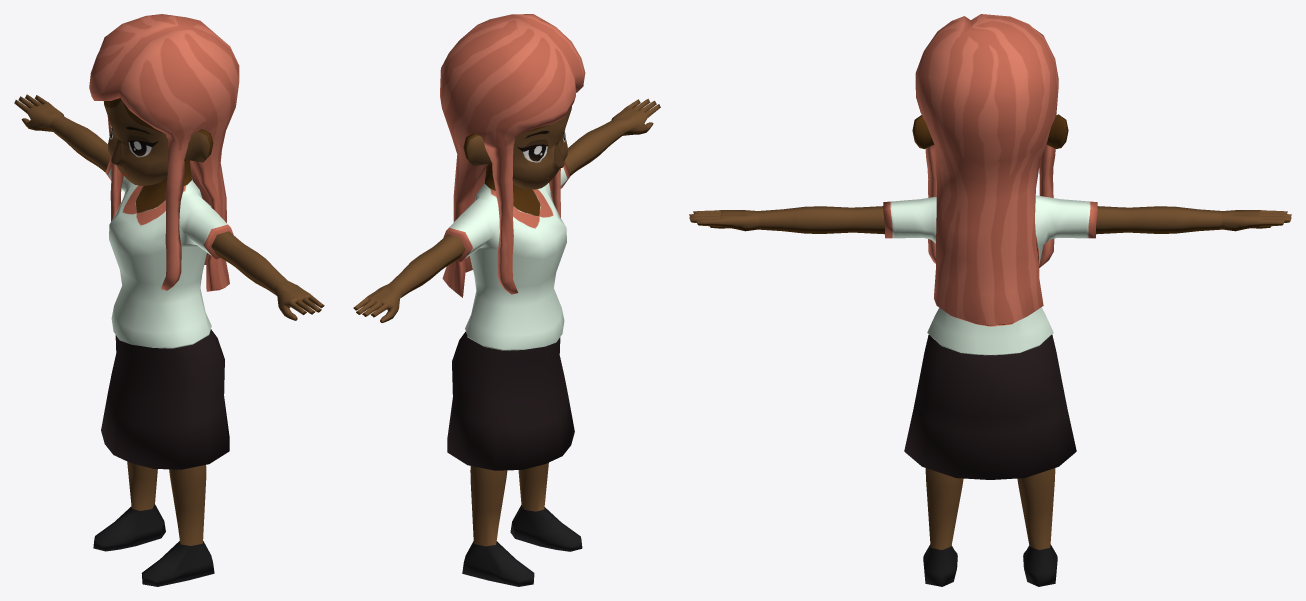
File: girl_7.fbx
3 renders of one model, left to right at view 1: azimuth 30°, elevation 25°; view 2: azimuth 150°, elevation 25°; view 3: azimuth 270°, elevation 25°, orthographic. The views are drawn at different scales.
Visible parts, largest first — view 1: girl_7; view 2: girl_7; view 3: girl_7.
Part boxes in pixels (x1,y1,x2,y2): girl_7: (14, 14, 324, 586); girl_7: (353, 14, 660, 586); girl_7: (689, 14, 1291, 586).
Size of the model in its own units: 34.45 by 137 by 136.
1 material, 1 textured.
